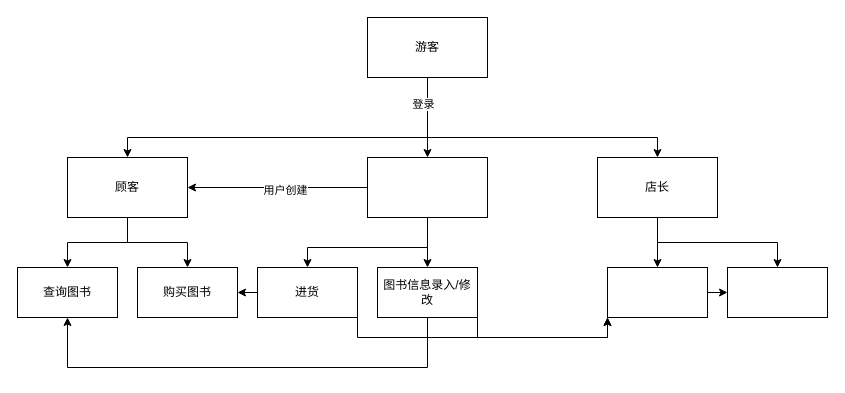
The diagram is 845 pixels wide and 393 high, and some of its shapes have lost their labels. The shapes that lost their labels are listed below. From the top down, each one's centre as x and y in pixels, then its label:
At point (427, 187): "销售".
At point (657, 292): "查询采购/销售记录".
At point (777, 292): "盈利情况".
